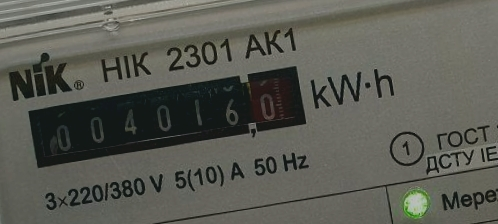0: (151, 99, 177, 136), (50, 119, 76, 155), (254, 88, 279, 123), (85, 111, 108, 147)
1: (188, 93, 208, 129)
4: (118, 103, 141, 139)
6: (218, 93, 242, 127)
screen: (19, 57, 316, 176)
